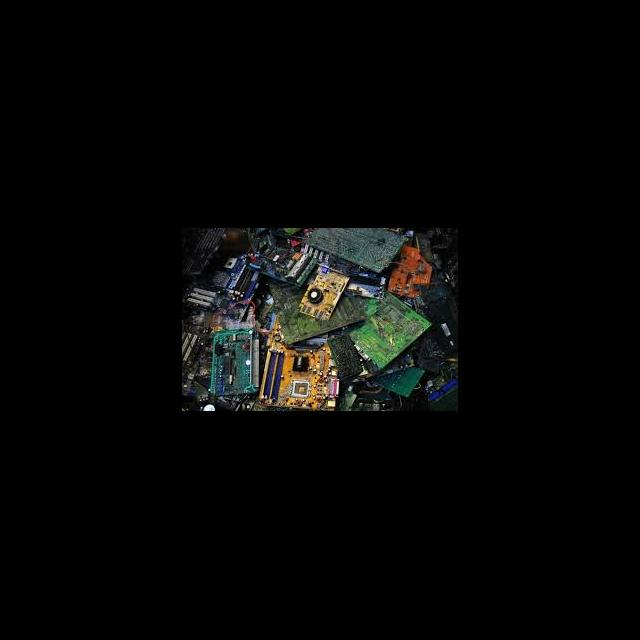metal: (255, 306, 344, 410), (205, 328, 270, 398), (296, 258, 348, 326)
